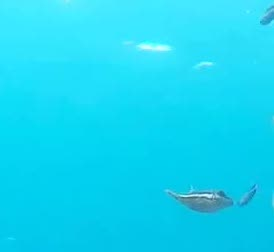hugu: (162, 179, 234, 214)
